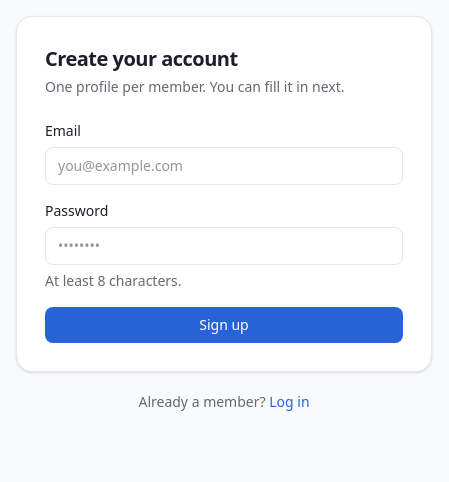
Test: signup › surfaces field-level validation messages next to the inputs
Type "ada@example.com" into the field labelled "Email" at (224, 166), box [45,147,403,185]
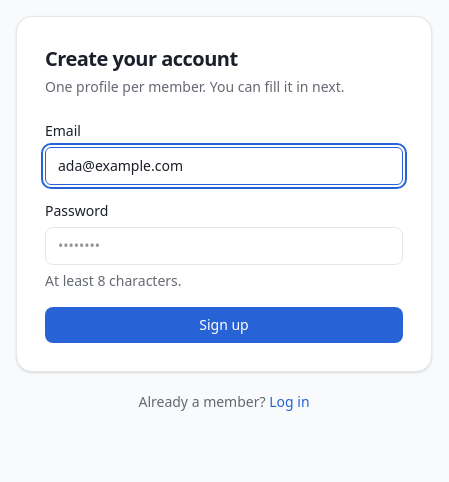
Type "short" into the password field labelled "Password" at (224, 246), box [45,227,403,265]
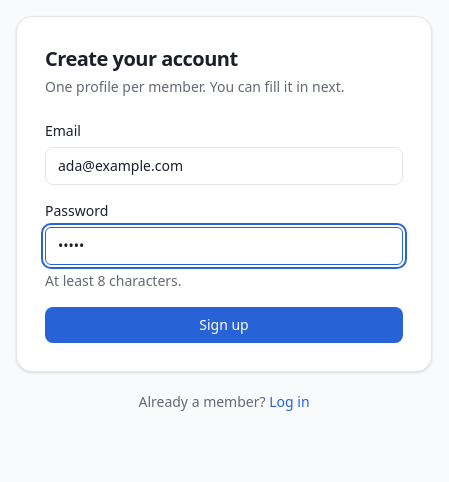
Click the button "Sign up" at (224, 325), box [45,307,403,343]
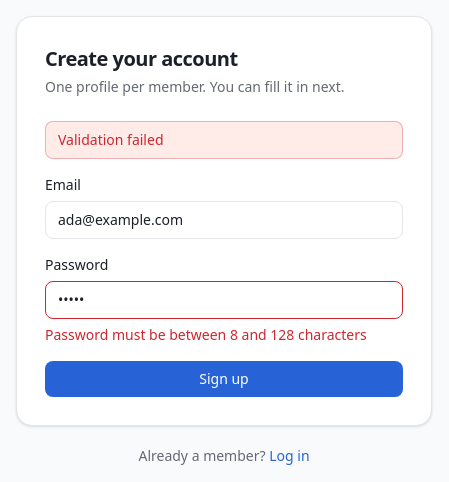
Now the text "Password must be between 8 and 128 characters" is shown, box [45,325,403,345]
